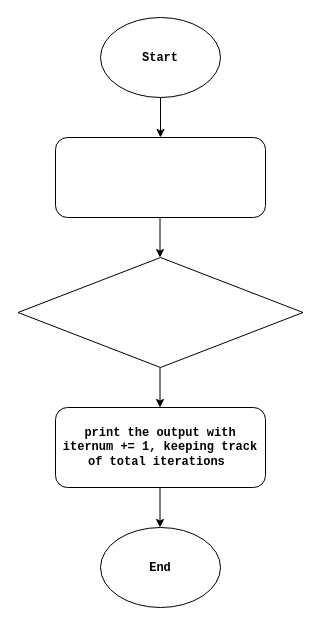
Some shapes in this 320 by 625 pixel diagram are drawn without their labels. Each missing label, with the centre of its shape:
"For i in range(N): for j in range(i +1)" belongs at (x=160, y=312).
"Initialize the iternum variable and take user input for the dimension" belongs at (x=160, y=177).
